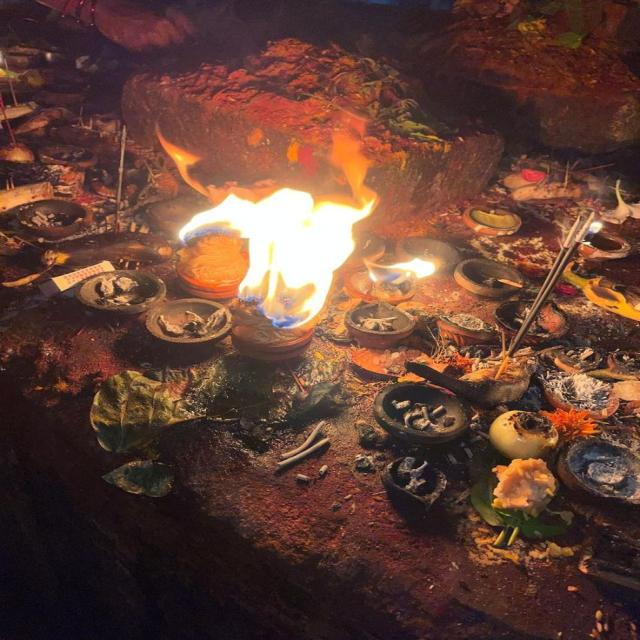fire: (175, 189, 376, 330)
